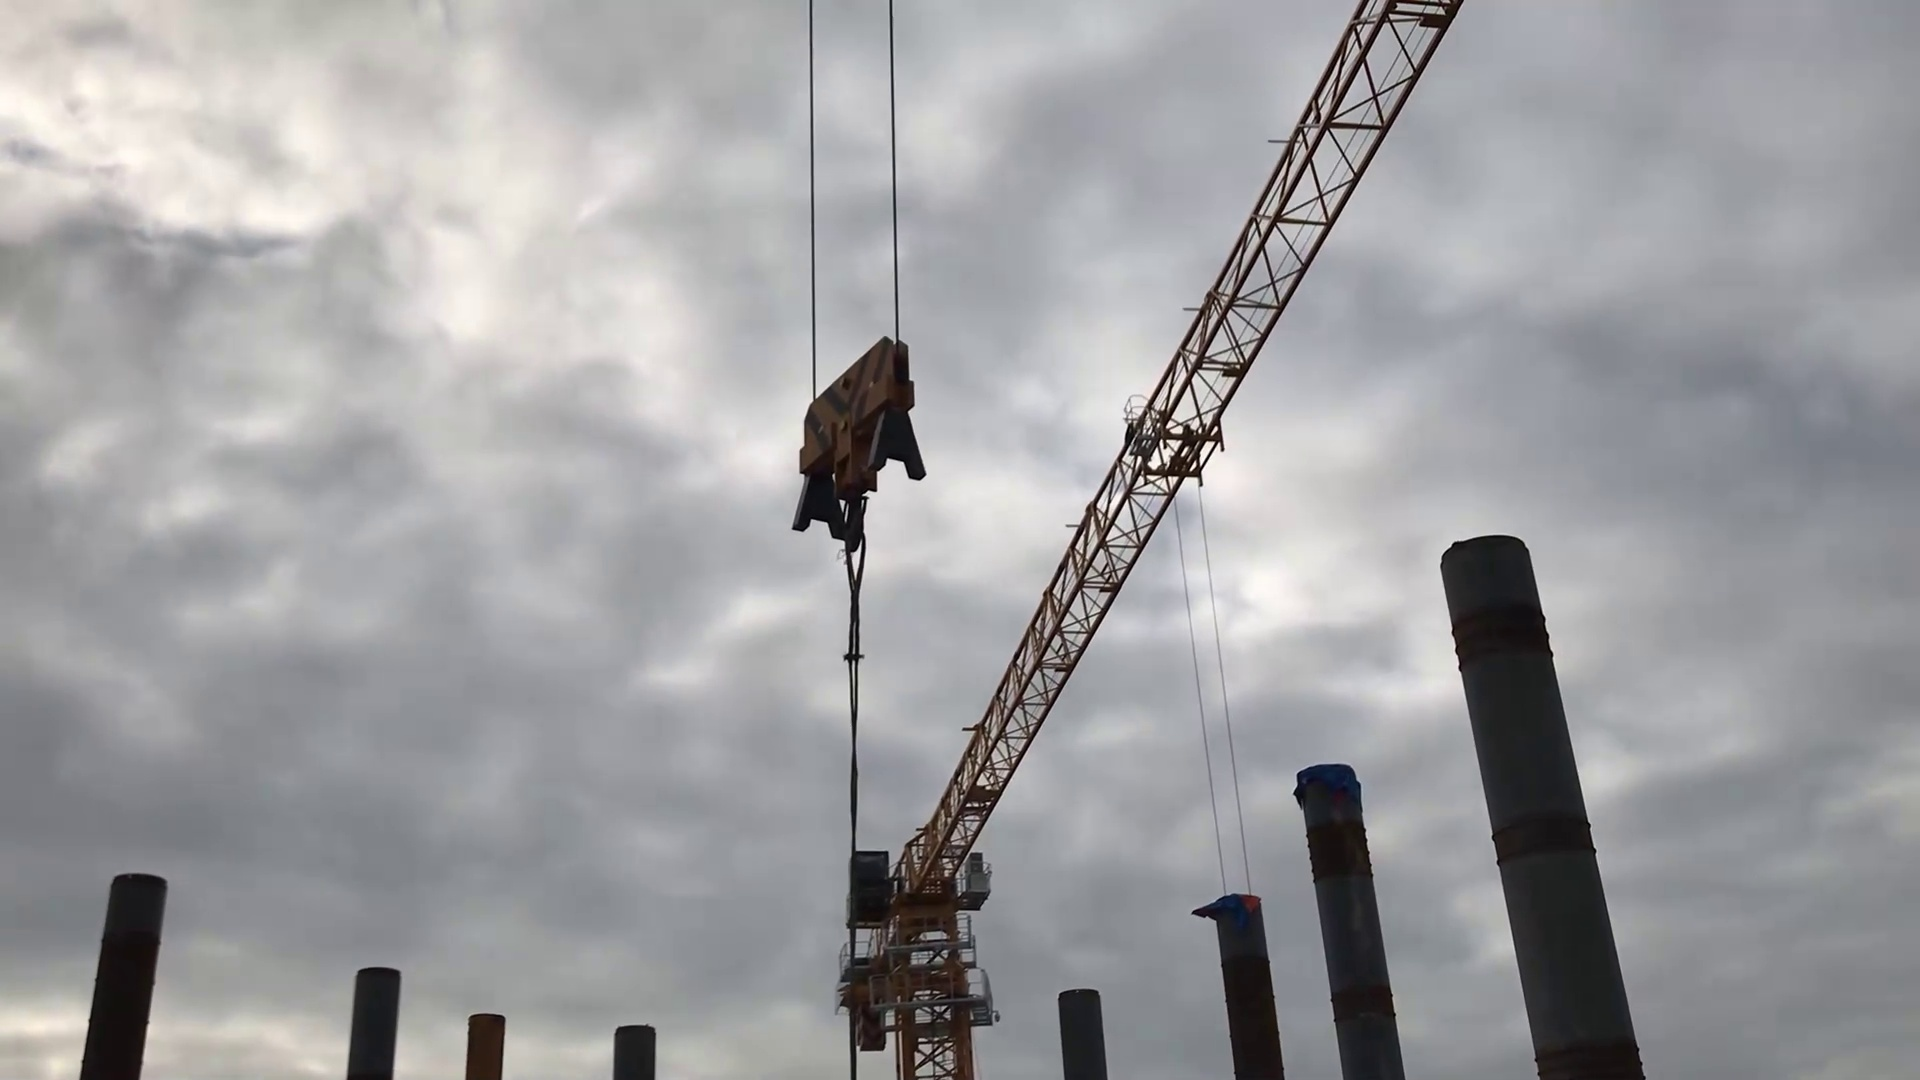hook: (785, 327, 934, 559)
